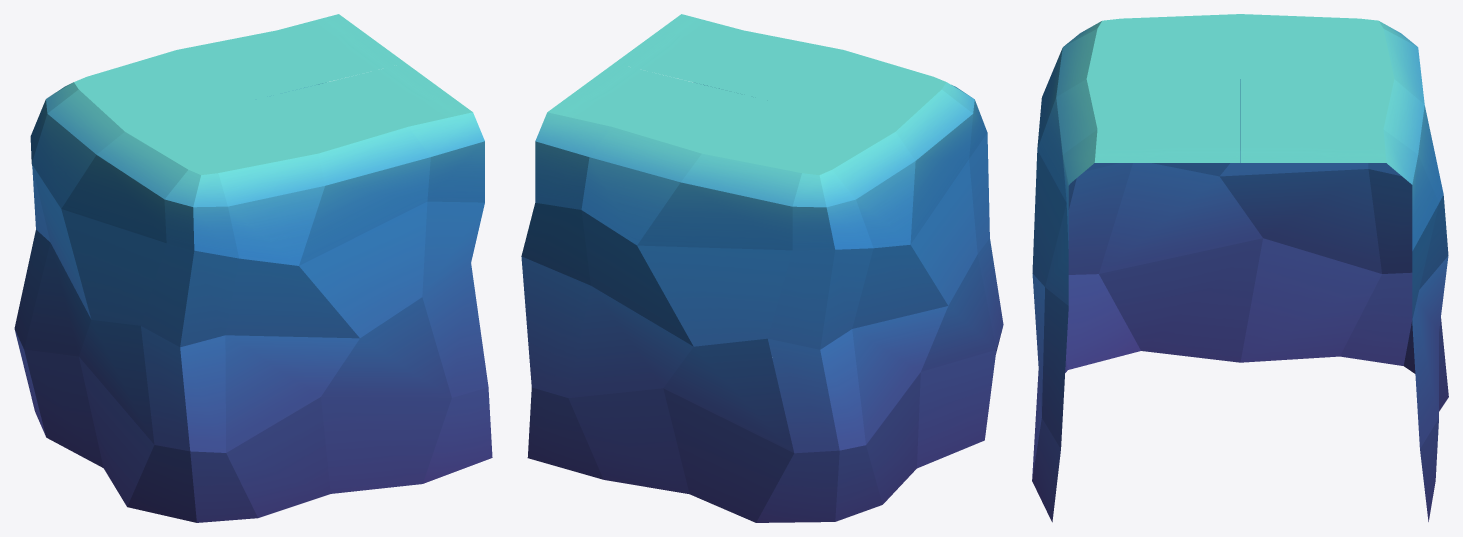
3 views of the same model, side by side, from view 1: azimuth 30°, elevation 25°; view 2: azimuth 150°, elevation 25°; view 3: azimuth 270°, elevation 25° (orthographic). The views are drawn at different scales.
Parts seen in each view (by area): view 1: Side.012, Side.011, OuterCorner.005, SideSmallRight.008, TopSide.016, TopSide.015, TopOuterCorner.005, TopOuterCorner.004, OuterCorner.004; view 2: Side.013, Side.011, OuterCorner.004, SideSmallLeft.008, TopSide.015, TopSide.016, TopOuterCorner.004, TopOuterCorner.005, OuterCorner.005; view 3: Side.011, TopSide.015, TopSide.016, OuterCorner.005, Side.012, TopOuterCorner.005, TopOuterCorner.004, OuterCorner.004, Side.013, SideSmallRight.008, SideSmallLeft.008.
Boxes of the visible parts, x1,y1,x2,y2 form: Side.012: [218, 126, 451, 517]; Side.011: [24, 89, 187, 506]; OuterCorner.005: [127, 170, 257, 522]; SideSmallRight.008: [409, 112, 492, 483]; TopSide.016: [177, 14, 405, 101]; TopSide.015: [248, 63, 472, 153]; TopOuterCorner.005: [125, 102, 317, 174]; TopOuterCorner.004: [74, 50, 247, 131]; OuterCorner.004: [14, 82, 78, 436]; Side.013: [568, 127, 801, 522]; Side.011: [832, 89, 996, 504]; OuterCorner.004: [756, 170, 882, 522]; SideSmallLeft.008: [521, 112, 611, 479]; TopSide.015: [614, 14, 842, 101]; TopSide.016: [547, 63, 772, 153]; TopOuterCorner.004: [702, 102, 894, 175]; TopOuterCorner.005: [773, 50, 946, 131]; OuterCorner.005: [942, 82, 1003, 353]; Side.011: [1099, 79, 1381, 362]; TopSide.015: [1086, 79, 1240, 162]; TopSide.016: [1240, 79, 1394, 162]; OuterCorner.005: [1063, 21, 1140, 372]; Side.012: [1032, 29, 1097, 479]; TopOuterCorner.005: [1086, 14, 1240, 78]; TopOuterCorner.004: [1240, 14, 1394, 78]; OuterCorner.004: [1340, 21, 1417, 373]; Side.013: [1383, 29, 1448, 415]; SideSmallRight.008: [1032, 130, 1097, 522]; SideSmallLeft.008: [1383, 130, 1438, 521].
Size of the model in its own units: 321 by 300 by 315.
